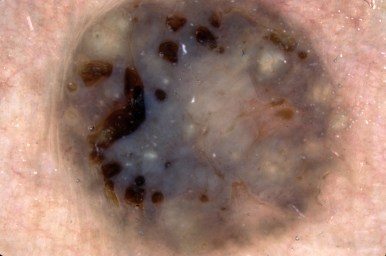seborrheic keratosis: (63, 1, 345, 251)
